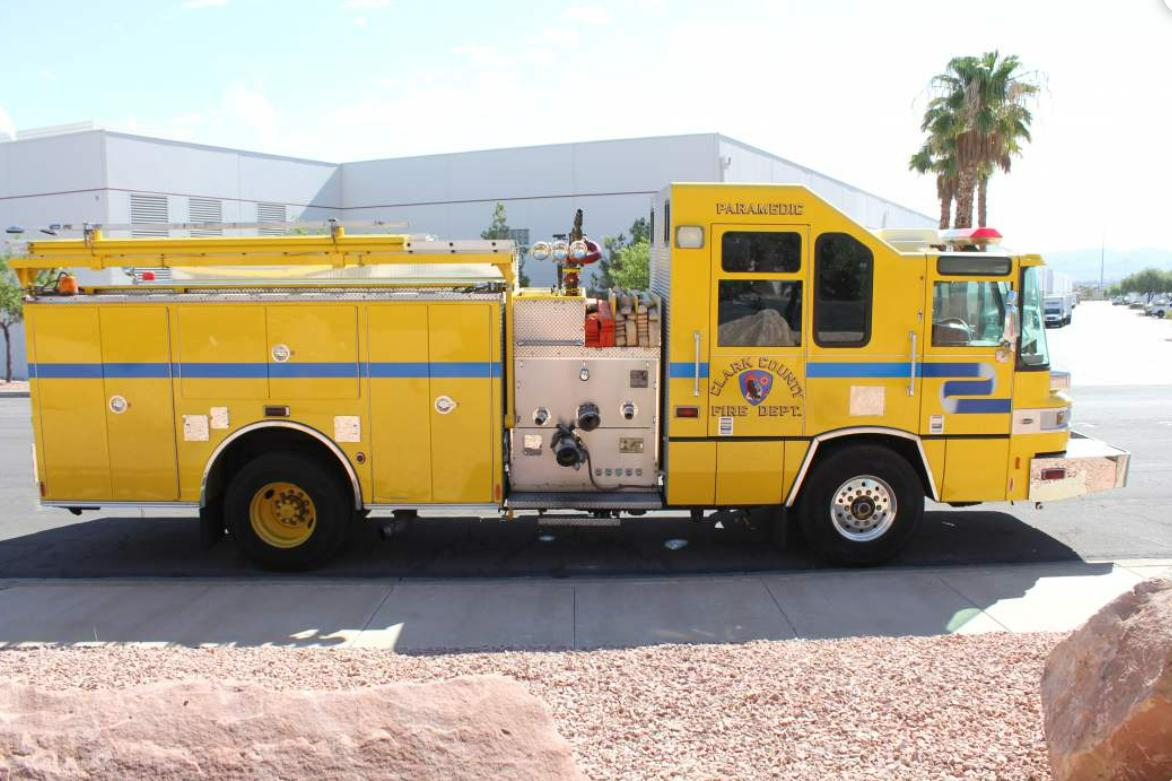firetruck_off: (0, 179, 1134, 562)
